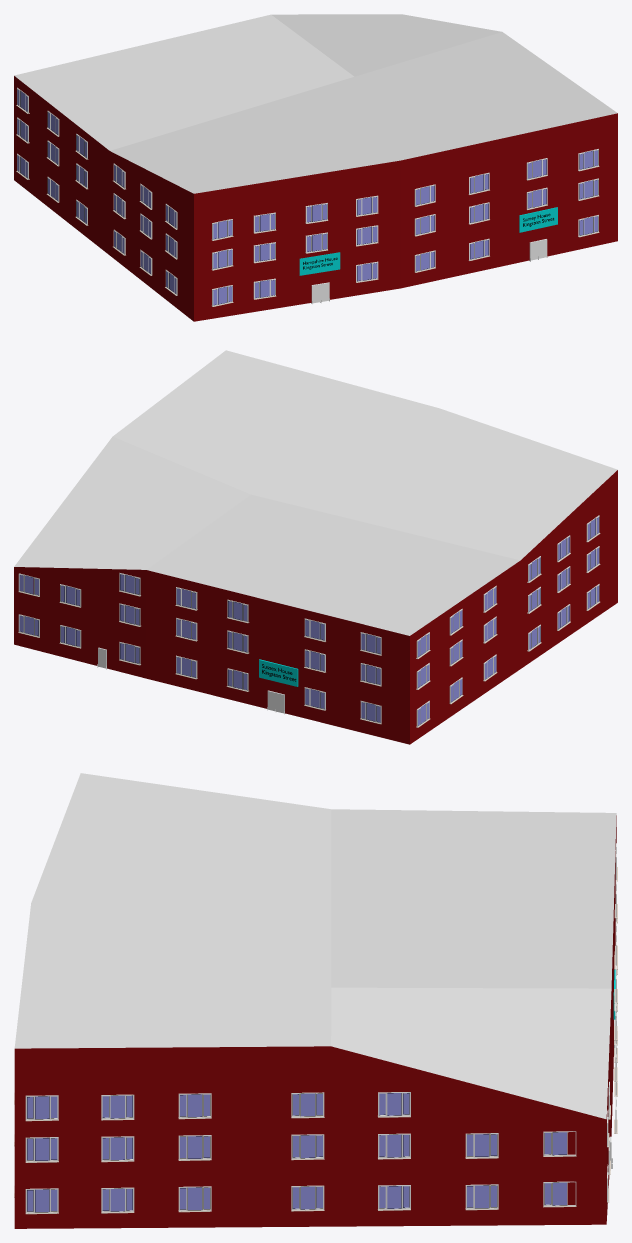
File: KingstonStreetHouse5.fbx
The picture shows the model from 3 angles, top to bottom: view 1: azimuth 30°, elevation 25°; view 2: azimuth 150°, elevation 25°; view 3: azimuth 270°, elevation 25°; orthographic projection. The views are drawn at different scales.
Visible parts, largest first — view 1: Vert.010, Cube.001, Cube.002, Window.041, Window.046, Window.040, Window.042, Window.043, Window.044, Window.047, Window.045; view 2: Vert.010, Cube; view 3: Vert.010, Window.063, Window.070, Window.061, Window.062, Window.064, Window.067, Window.068, Window.059, Window.065, Window.071, Window.069 (+8 smaller).
Boxes of the visible parts, <box> form: Vert.010: <box>14,14,617,321</box>; Cube.001: <box>299,252,340,275</box>; Cube.002: <box>519,207,557,232</box>; Window.041: <box>253,242,275,263</box>; Window.046: <box>356,225,378,246</box>; Window.040: <box>253,278,276,299</box>; Window.042: <box>253,212,276,233</box>; Window.043: <box>305,203,328,223</box>; Window.044: <box>305,232,327,253</box>; Window.047: <box>356,261,378,282</box>; Window.045: <box>356,195,378,216</box>; Vert.010: <box>14,350,617,744</box>; Cube: <box>259,659,298,686</box>; Vert.010: <box>14,773,616,1228</box>; Window.063: <box>101,1136,134,1162</box>; Window.070: <box>291,1092,324,1118</box>; Window.061: <box>25,1188,58,1214</box>; Window.062: <box>101,1187,134,1213</box>; Window.064: <box>101,1094,134,1120</box>; Window.067: <box>178,1186,211,1212</box>; Window.068: <box>291,1185,324,1211</box>; Window.059: <box>25,1095,58,1121</box>; Window.065: <box>178,1093,211,1119</box>; Window.071: <box>465,1184,498,1210</box>; Window.069: <box>291,1134,324,1160</box>.
Bounding box in the file's own units: 49.68 × 15.13 × 45.54.
